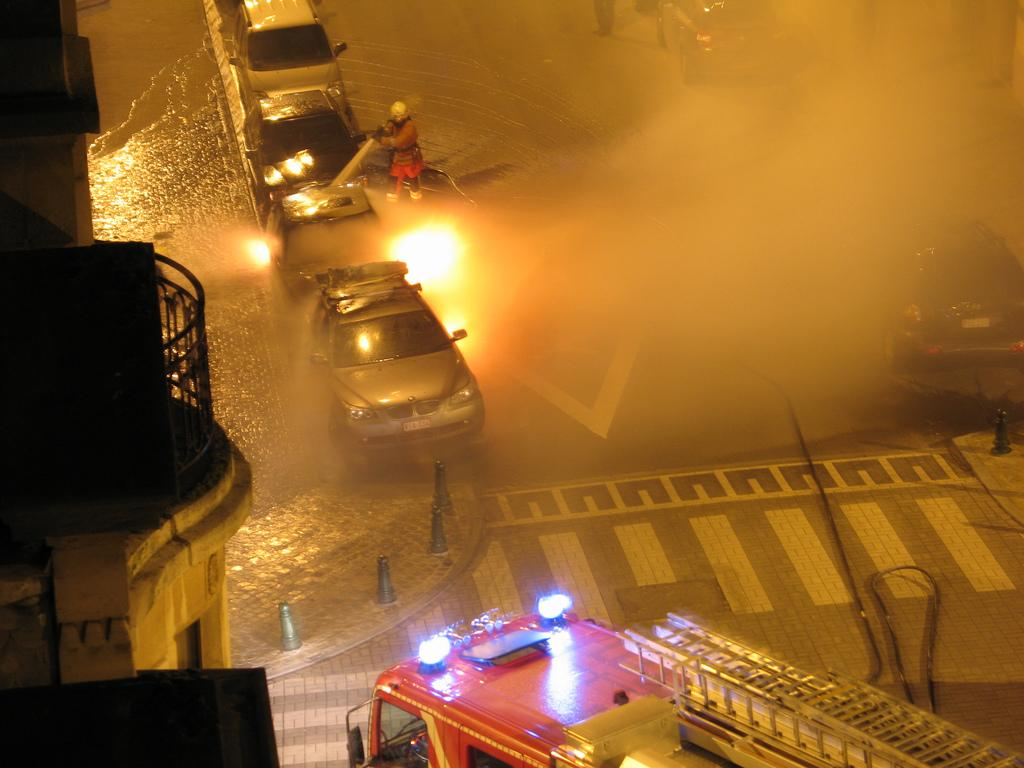fire: (394, 220, 460, 288)
